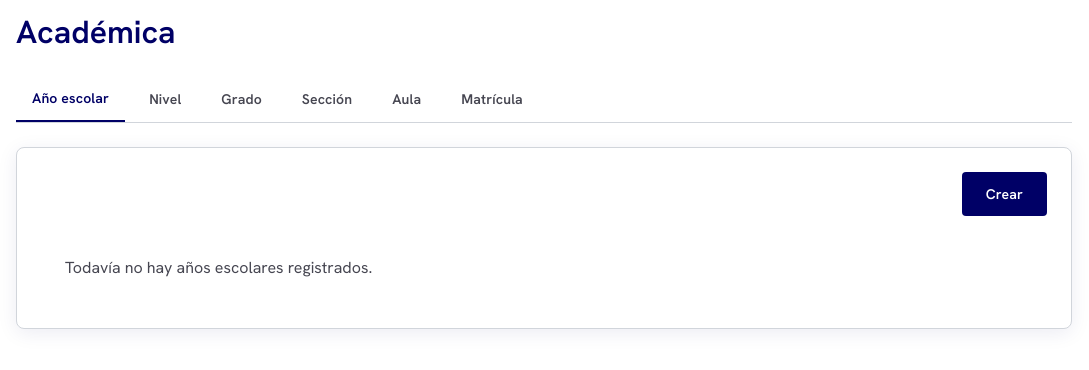
Scenario: AcademicaPage › [16.2] hacer click en la pestaña "Sección" renderiza su panel y desmonta el de Años
Click the tab "Sección" at (327, 99), box [286, 76, 368, 122]
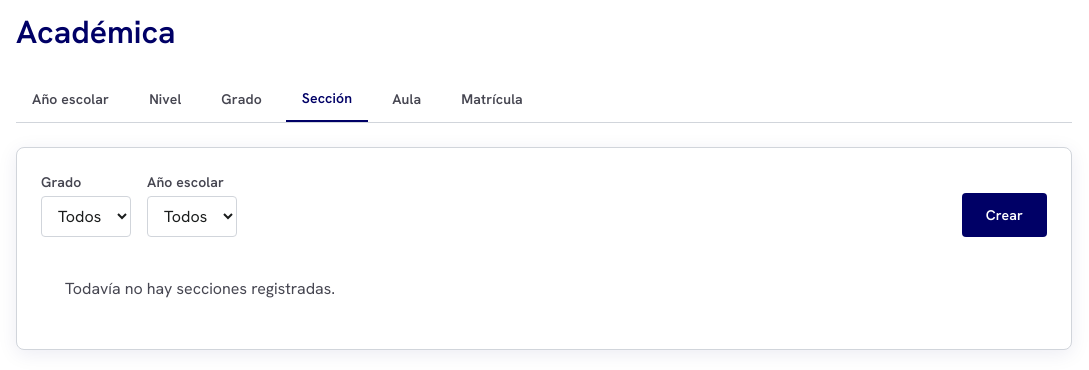
Result: the text "Todavía no hay secciones registradas." is shown at [65, 278, 335, 299]
Result: the text "Todavía no hay años escolares registrados." is gone
